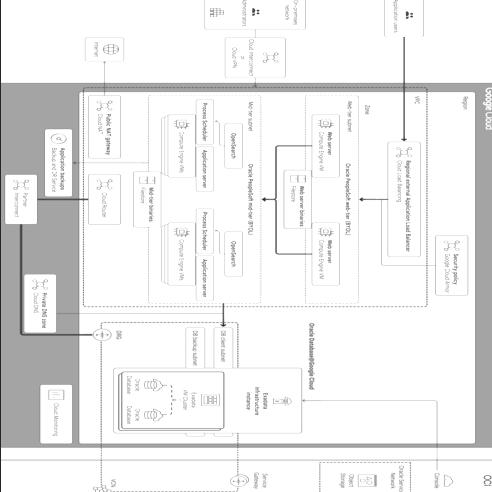actor: (205, 0, 305, 29), (386, 0, 421, 37), (86, 36, 122, 62), (436, 465, 464, 491)
compute: (113, 368, 226, 432), (308, 113, 342, 176), (308, 222, 342, 285), (219, 232, 242, 277), (219, 124, 242, 168), (180, 99, 203, 143), (180, 148, 203, 192), (180, 208, 203, 252), (180, 256, 203, 300)
data_flow: (273, 144, 277, 254), (161, 144, 165, 254), (325, 399, 458, 402), (71, 271, 75, 336), (46, 333, 128, 336), (276, 476, 332, 480), (236, 428, 240, 476), (90, 162, 172, 164), (402, 37, 405, 84), (165, 144, 196, 148), (448, 430, 451, 465), (69, 198, 104, 201), (102, 61, 106, 86), (277, 143, 308, 146), (277, 252, 308, 255), (165, 253, 196, 256), (424, 264, 446, 267), (222, 298, 226, 310), (215, 144, 224, 148), (215, 253, 224, 256), (253, 30, 257, 36), (253, 78, 257, 84), (380, 198, 392, 200), (151, 198, 163, 200), (275, 198, 282, 200)
database_storage: (104, 362, 308, 439), (41, 129, 73, 197), (282, 170, 310, 228), (132, 170, 160, 228), (332, 460, 376, 492)
network_security: (386, 142, 421, 256), (88, 95, 120, 158), (436, 235, 468, 296), (23, 274, 56, 333), (42, 385, 70, 442), (88, 175, 120, 224), (6, 175, 36, 224), (238, 37, 272, 78)
trust_boundary: (1, 86, 492, 445), (59, 86, 448, 302), (73, 99, 434, 301), (94, 102, 419, 297), (109, 106, 281, 293), (1, 454, 492, 492), (90, 336, 308, 420), (294, 106, 368, 293), (92, 457, 299, 492), (312, 457, 427, 492)
